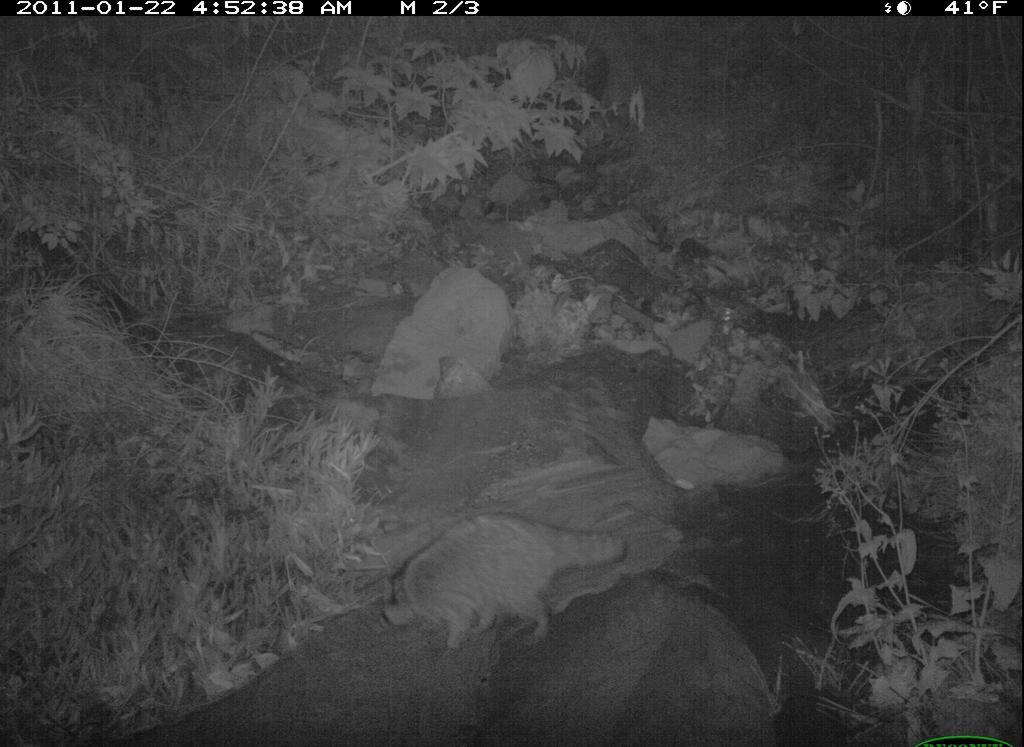raccoon: (368, 496, 652, 656)
